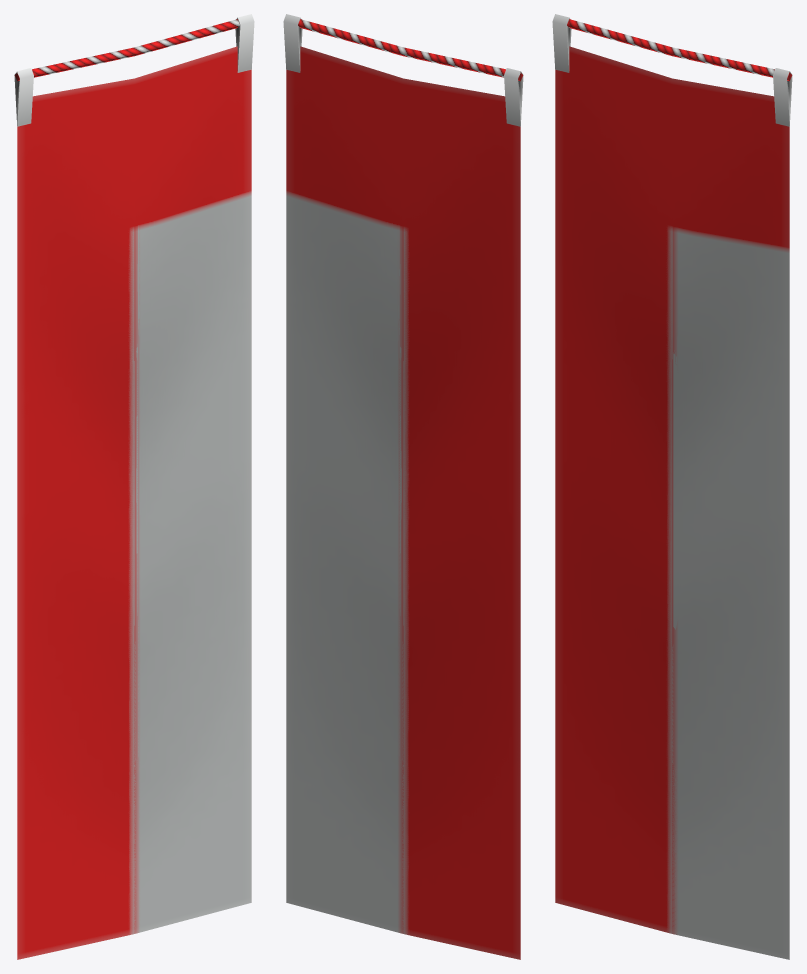
The model's file is set_redandwhite_curtain_03.fbx.
The picture shows the model from 3 angles, left to right: view 1: azimuth 30°, elevation 25°; view 2: azimuth 150°, elevation 25°; view 3: azimuth 330°, elevation 25°; orthographic projection.
Visible parts, largest first — view 1: set_redandwhite_curtain_03; view 2: set_redandwhite_curtain_03; view 3: set_redandwhite_curtain_03.
Part boxes in pixels (x1=…): set_redandwhite_curtain_03: x1=14, y1=14, x2=254, y2=959; set_redandwhite_curtain_03: x1=283, y1=14, x2=523, y2=959; set_redandwhite_curtain_03: x1=552, y1=14, x2=792, y2=959.
Bounding box in the file's own units: 50 × 182 × 2.01.
